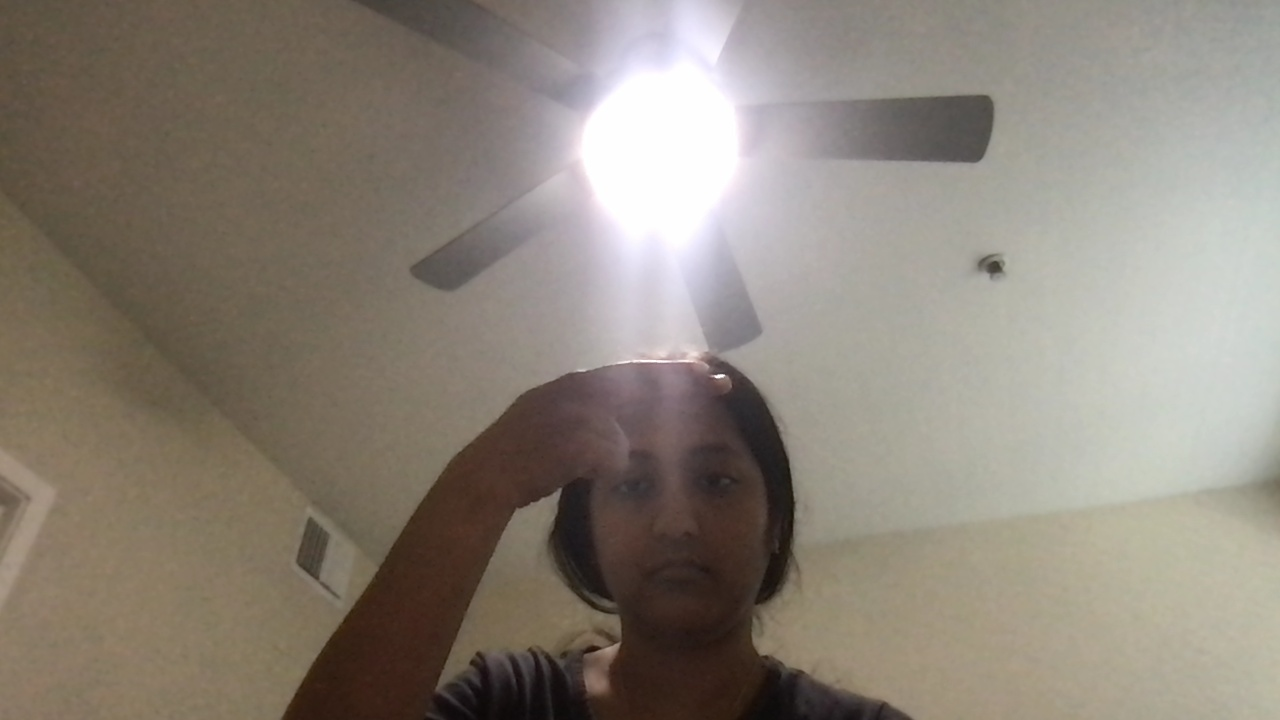h: (516, 364, 741, 494)
